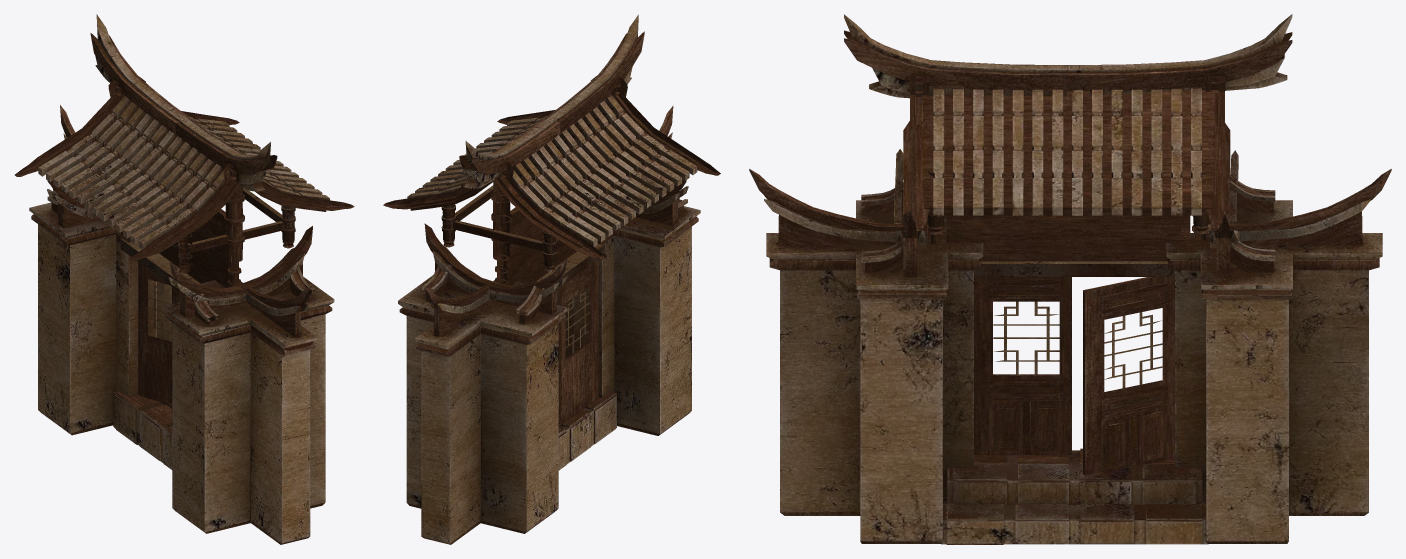
The model's file is den-chua.glb.
The picture shows the model from 3 angles, left to right: view 1: azimuth 30°, elevation 25°; view 2: azimuth 150°, elevation 25°; view 3: azimuth 270°, elevation 25°; orthographic projection. The views are drawn at different scales.
Visible parts, largest first — view 1: Cube.007, Cube.008, Cube.001, Cube.006, Circle, Cube.003, Cube.028, Cube.026, Cube.004, Cube, Circle.004, Cube.021 (+10 smaller); view 2: Cube.008, Cube.007, Cube.001, Cube.011, Cube.006, Circle, Cube.003, Cube.028, Cube.004, Circle.003, Cube, Cube.015 (+9 smaller); view 3: Cube.008, Cube.007, Cube.001, Cube, Cube.026, Cube.011, Cube.010, Circle, Cube.009, Cube.003, Cube.004, Cube.006 (+12 smaller).
Boxes of the visible parts, box(x1,y1,x2,y2) form: Cube.007: box(163, 277, 334, 544); Cube.008: box(29, 181, 171, 435); Cube.001: box(38, 95, 329, 249); Cube.006: box(15, 76, 354, 261); Circle: box(159, 186, 244, 287); Cube.003: box(90, 33, 277, 174); Cube.028: box(113, 391, 172, 469); Cube.026: box(138, 262, 171, 403); Cube.004: box(96, 14, 270, 168); Cube: box(59, 94, 326, 248); Circle.004: box(187, 199, 295, 252); Cube.021: box(246, 287, 309, 337); Cube.008: box(398, 275, 567, 544); Cube.007: box(557, 206, 700, 435); Cube.001: box(407, 94, 697, 246); Cube.011: box(558, 259, 598, 424); Cube.006: box(383, 76, 720, 259); Circle: box(491, 180, 576, 285); Cube.003: box(459, 31, 644, 174); Cube.028: box(558, 392, 616, 470); Cube.004: box(465, 14, 638, 167); Circle.003: box(441, 185, 544, 251); Cube: box(410, 98, 669, 247); Cube.015: box(425, 285, 490, 336); Cube.008: box(1166, 200, 1382, 543); Cube.007: box(766, 200, 983, 543); Cube.001: box(933, 87, 1201, 215); Cube: box(922, 90, 1215, 215); Cube.026: box(1083, 277, 1174, 475); Cube.011: box(974, 277, 1071, 455); Cube.010: box(941, 503, 1208, 544); Circle: box(927, 215, 1208, 261); Cube.009: box(947, 464, 1202, 504); Cube.003: box(844, 30, 1292, 91); Cube.004: box(844, 14, 1292, 72); Cube.006: box(910, 76, 1224, 229).
Size of the model in its own units: 0.5148 by 0.8495 by 1.
Materials: 1 (1 with a texture image).
